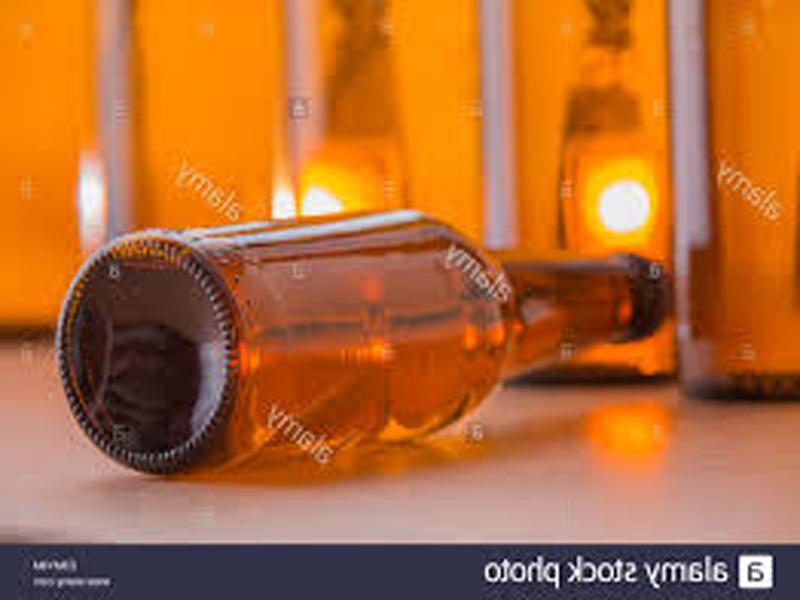Beer: (54, 206, 662, 488)
